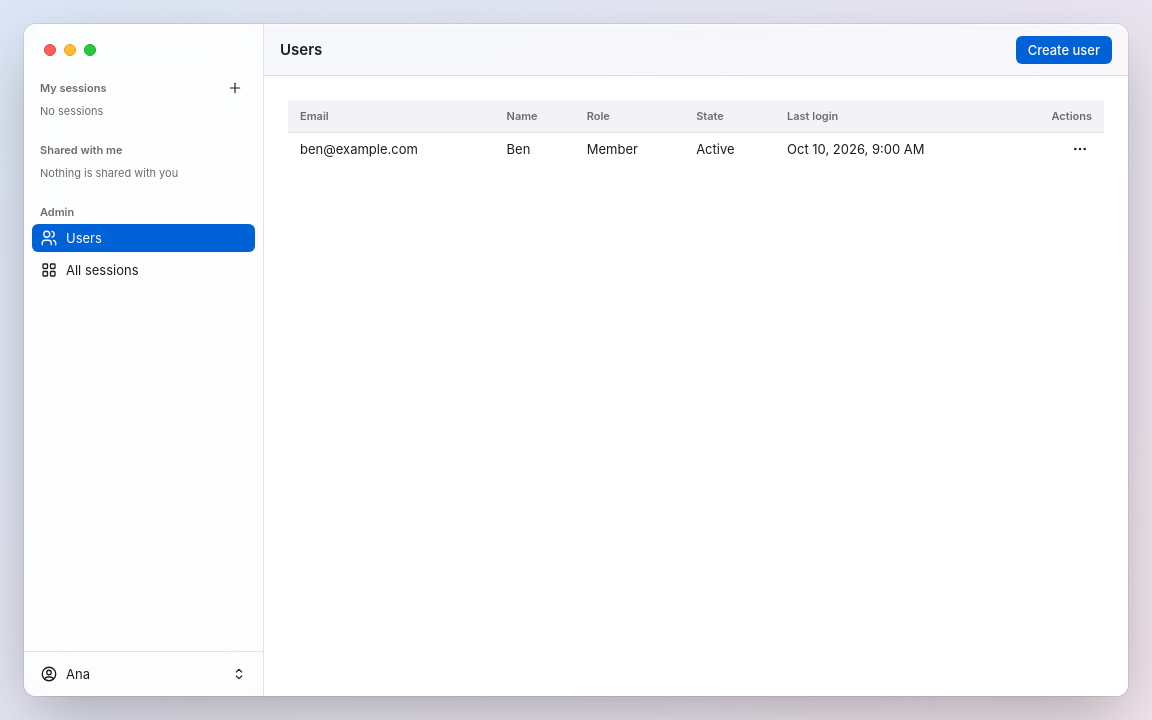
it: Admin → Users › shows a one-time password before the slow user list refetch ends
Click the button "Create user". click: click(1064, 50)
box: [1016,36,1112,64]
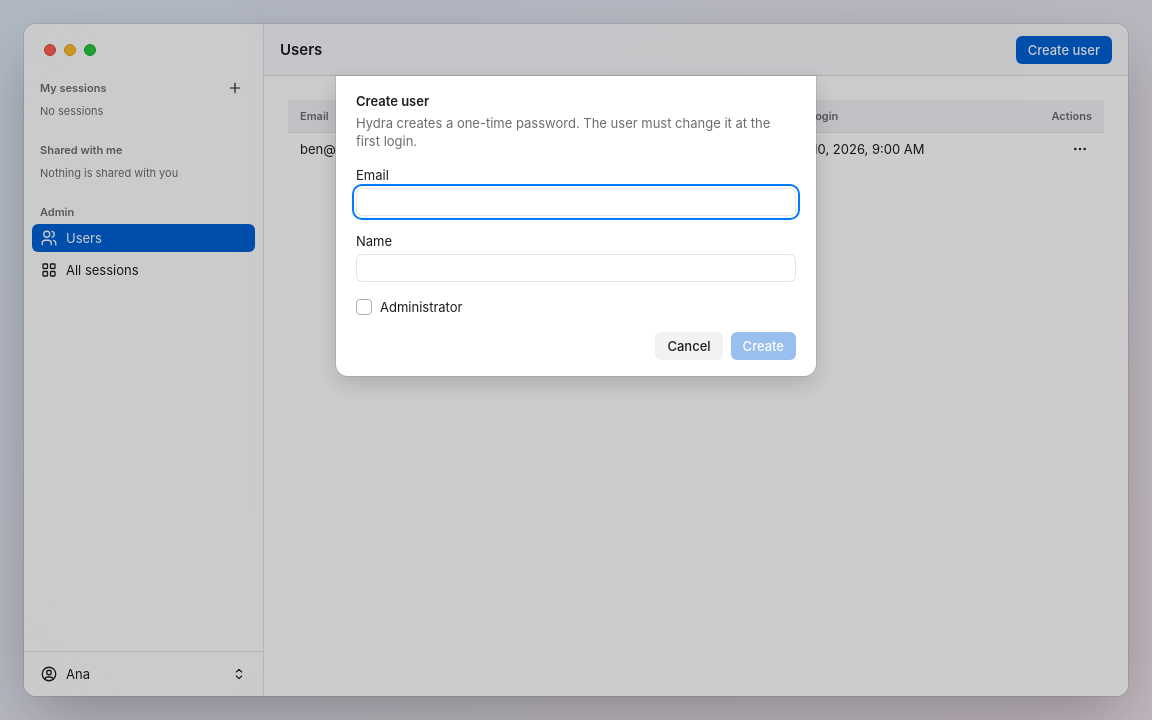
Type "cleo@example.com" into the field labelled "Email". click: (576, 202)
box: [356,188,796,216]
Type "Cleo" into the field labelled "Name". click: (576, 268)
box: [356,254,796,282]
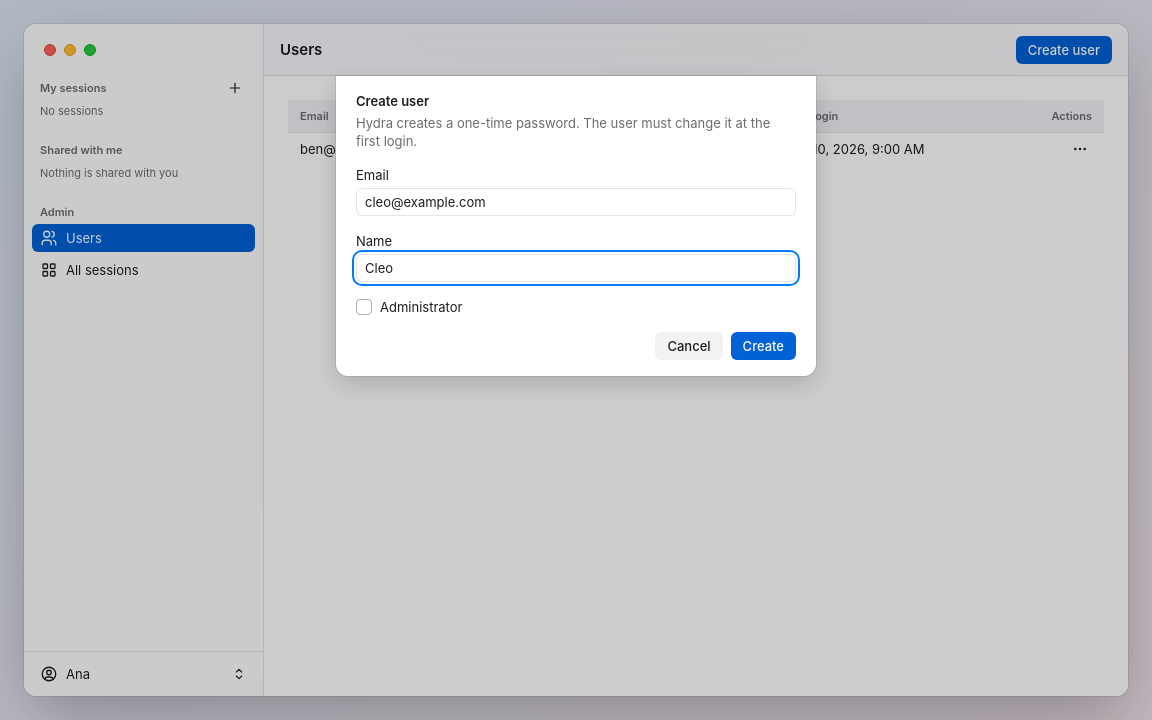
Click the button "Create". click: click(763, 346)
box: [731,332,796,360]
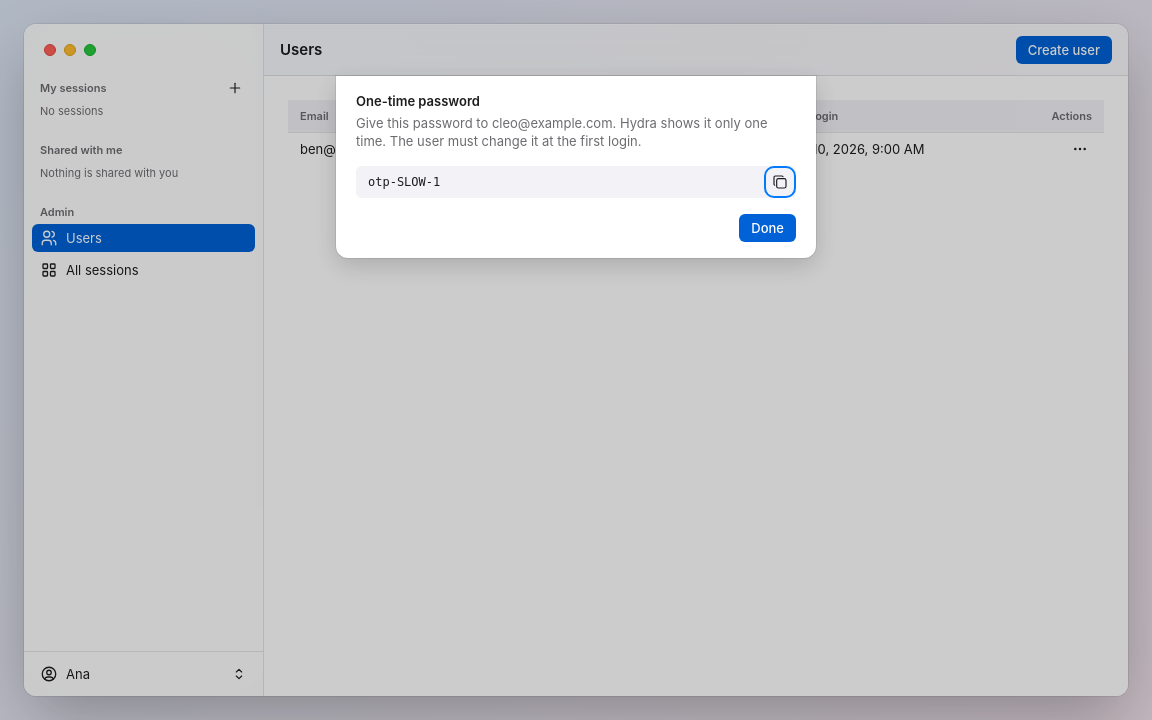
expect the element named "One-time password" reads "otp-SLOW-1": met, box [368,175,440,189]
Click the button "Done". click: click(768, 228)
box: [739,214,796,242]
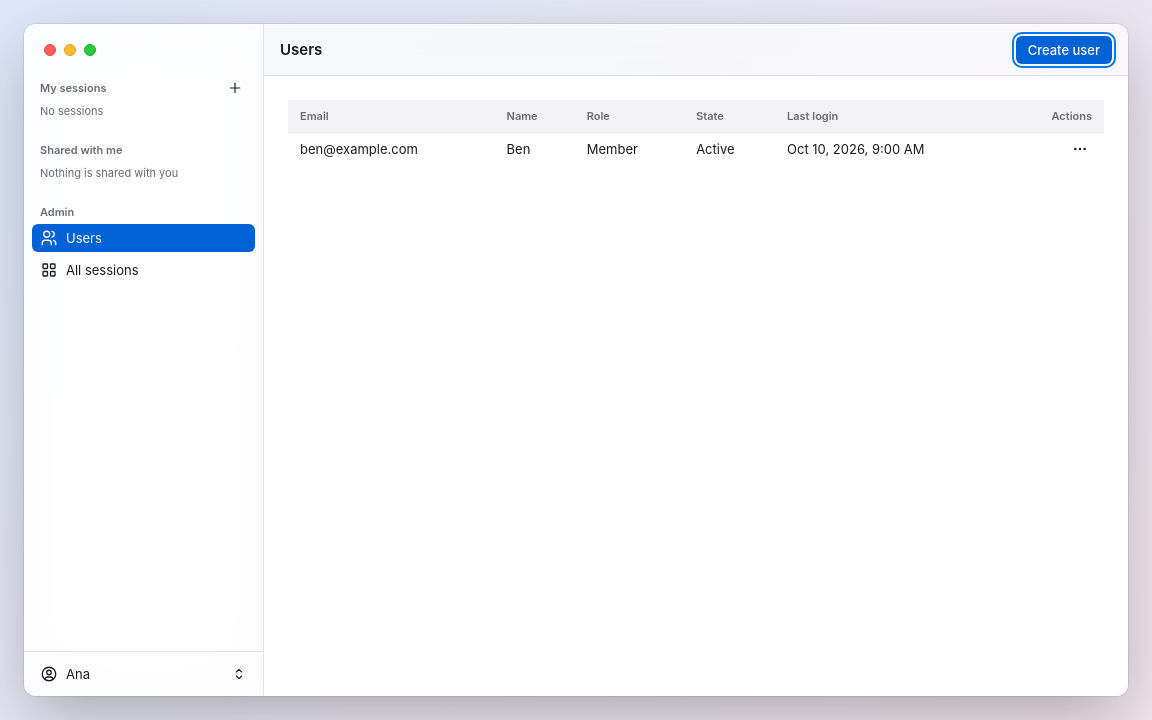
Note: The same holds for a reset (the list refetch is not held open this time).
Click the button named "Actions for ben@example.com". click: click(1080, 148)
box: [1068,136,1092,160]
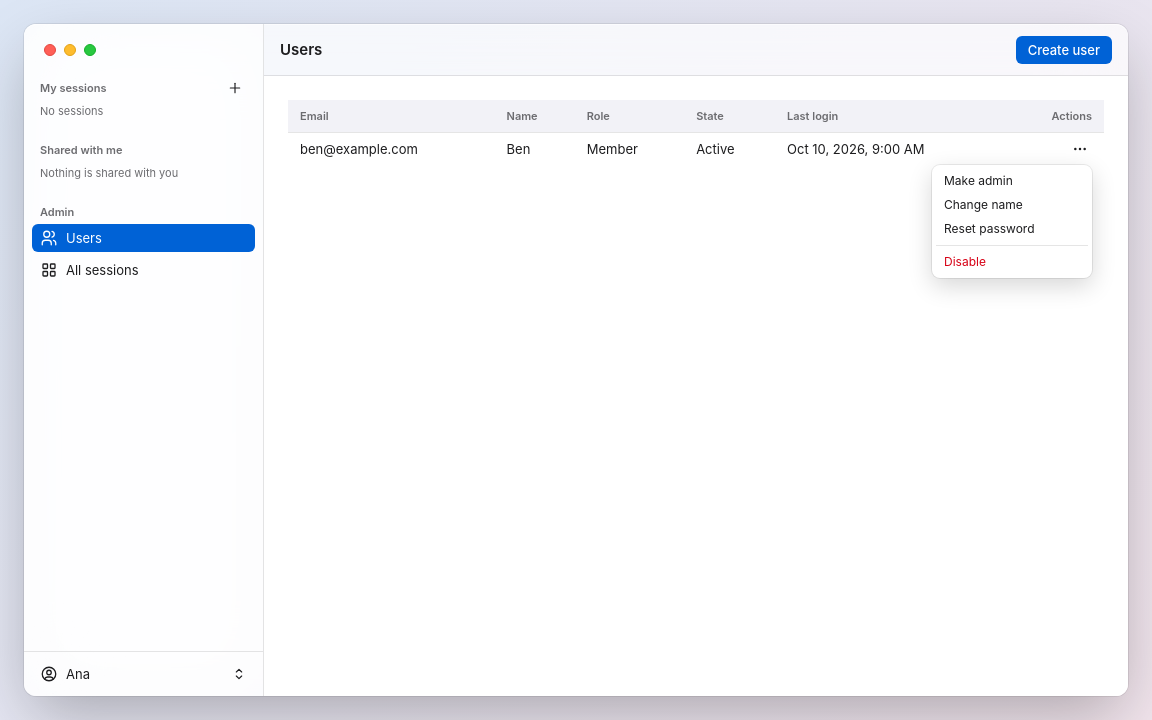
Click the menu item "Reset password". click: click(989, 228)
box: [944,221,1034,236]
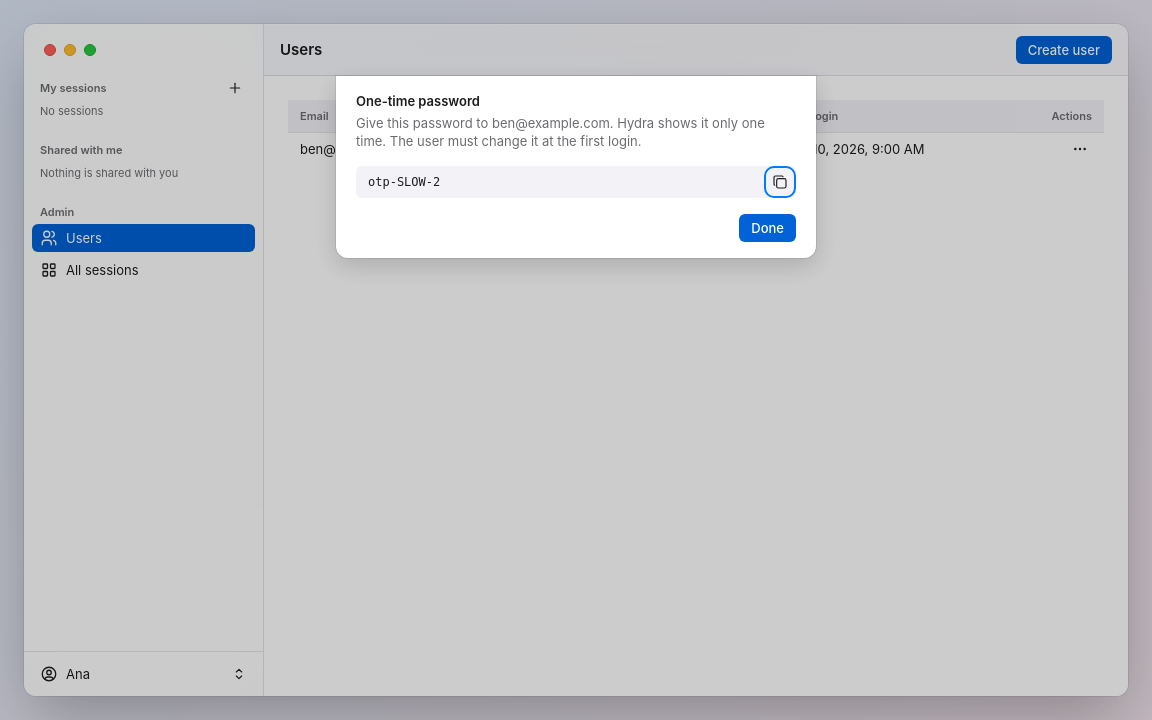
expect the element named "One-time password" reads "otp-SLOW-2": met, box [368,175,440,189]
